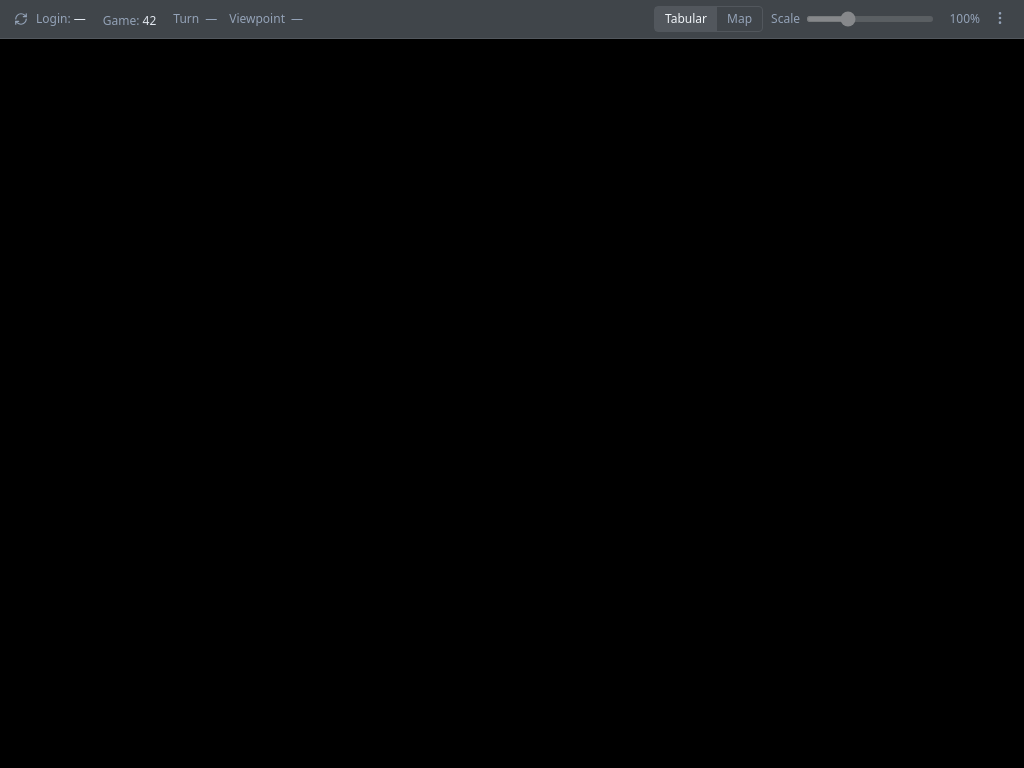
Test: Header › shows loading label when load-all is pending
Click the button named "open menu" at {"x": 1000, "y": 18}, box [988,6,1012,30]
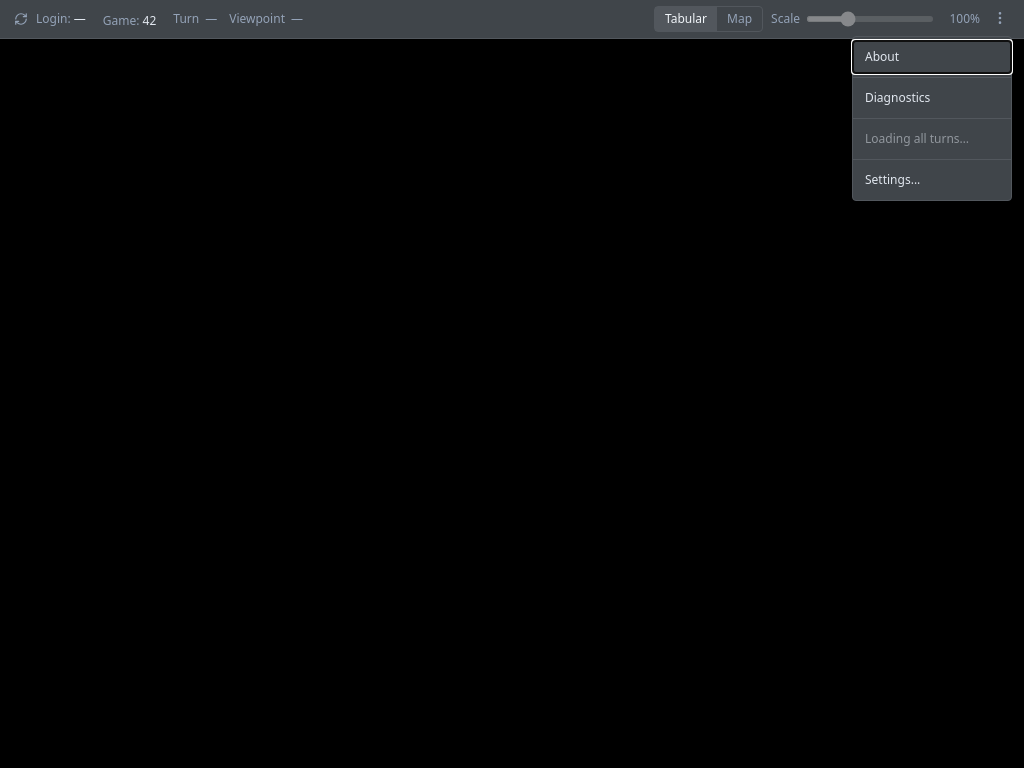
Result: the dialog named "header menu" is shown at [852,36,1012,201]
Result: the button "Loading all turns…" is shown at [853,123,1011,155]
